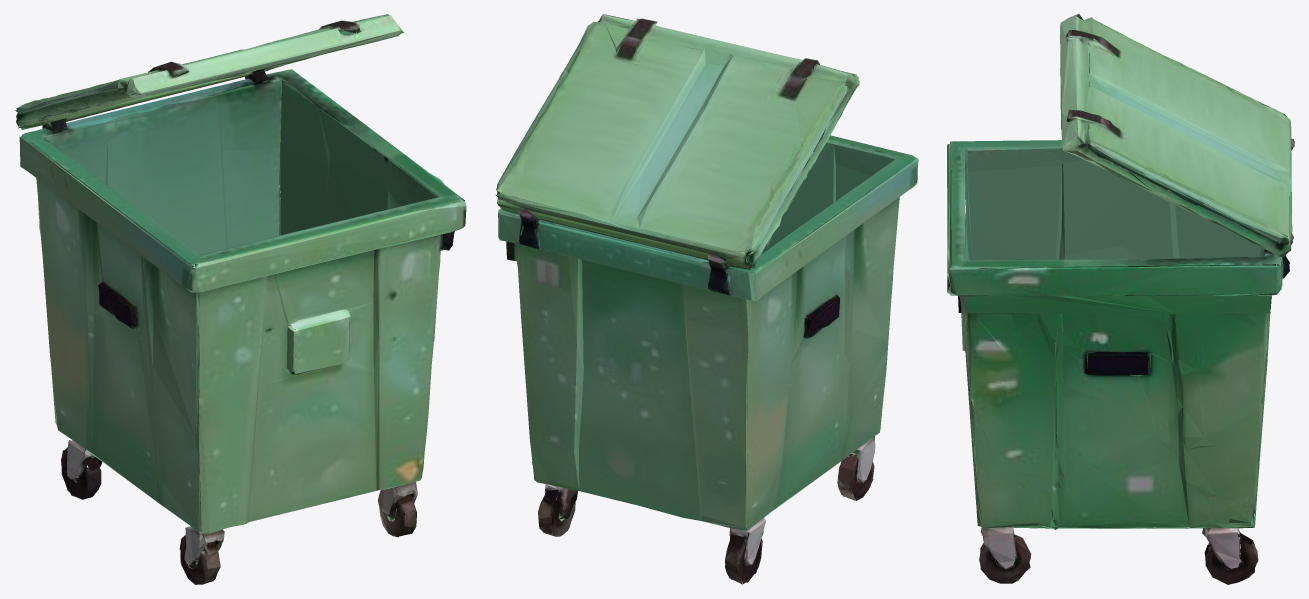
File: dumpster.glb
The picture shows the model from 3 angles, left to right: view 1: azimuth 30°, elevation 25°; view 2: azimuth 150°, elevation 25°; view 3: azimuth 270°, elevation 25°; orthographic projection. The views are drawn at different scales.
Parts seen in each view (by area): view 1: obj.obj; view 2: obj.obj; view 3: obj.obj.
Boxes of the visible parts, x1=… form: obj.obj: x1=15, y1=14, x2=466, y2=584; obj.obj: x1=496, y1=14, x2=918, y2=584; obj.obj: x1=947, y1=14, x2=1294, y2=584.
Size of the model in its own units: 0.8052 by 1.35 by 0.9178.
Materials: 1 (1 with a texture image).
